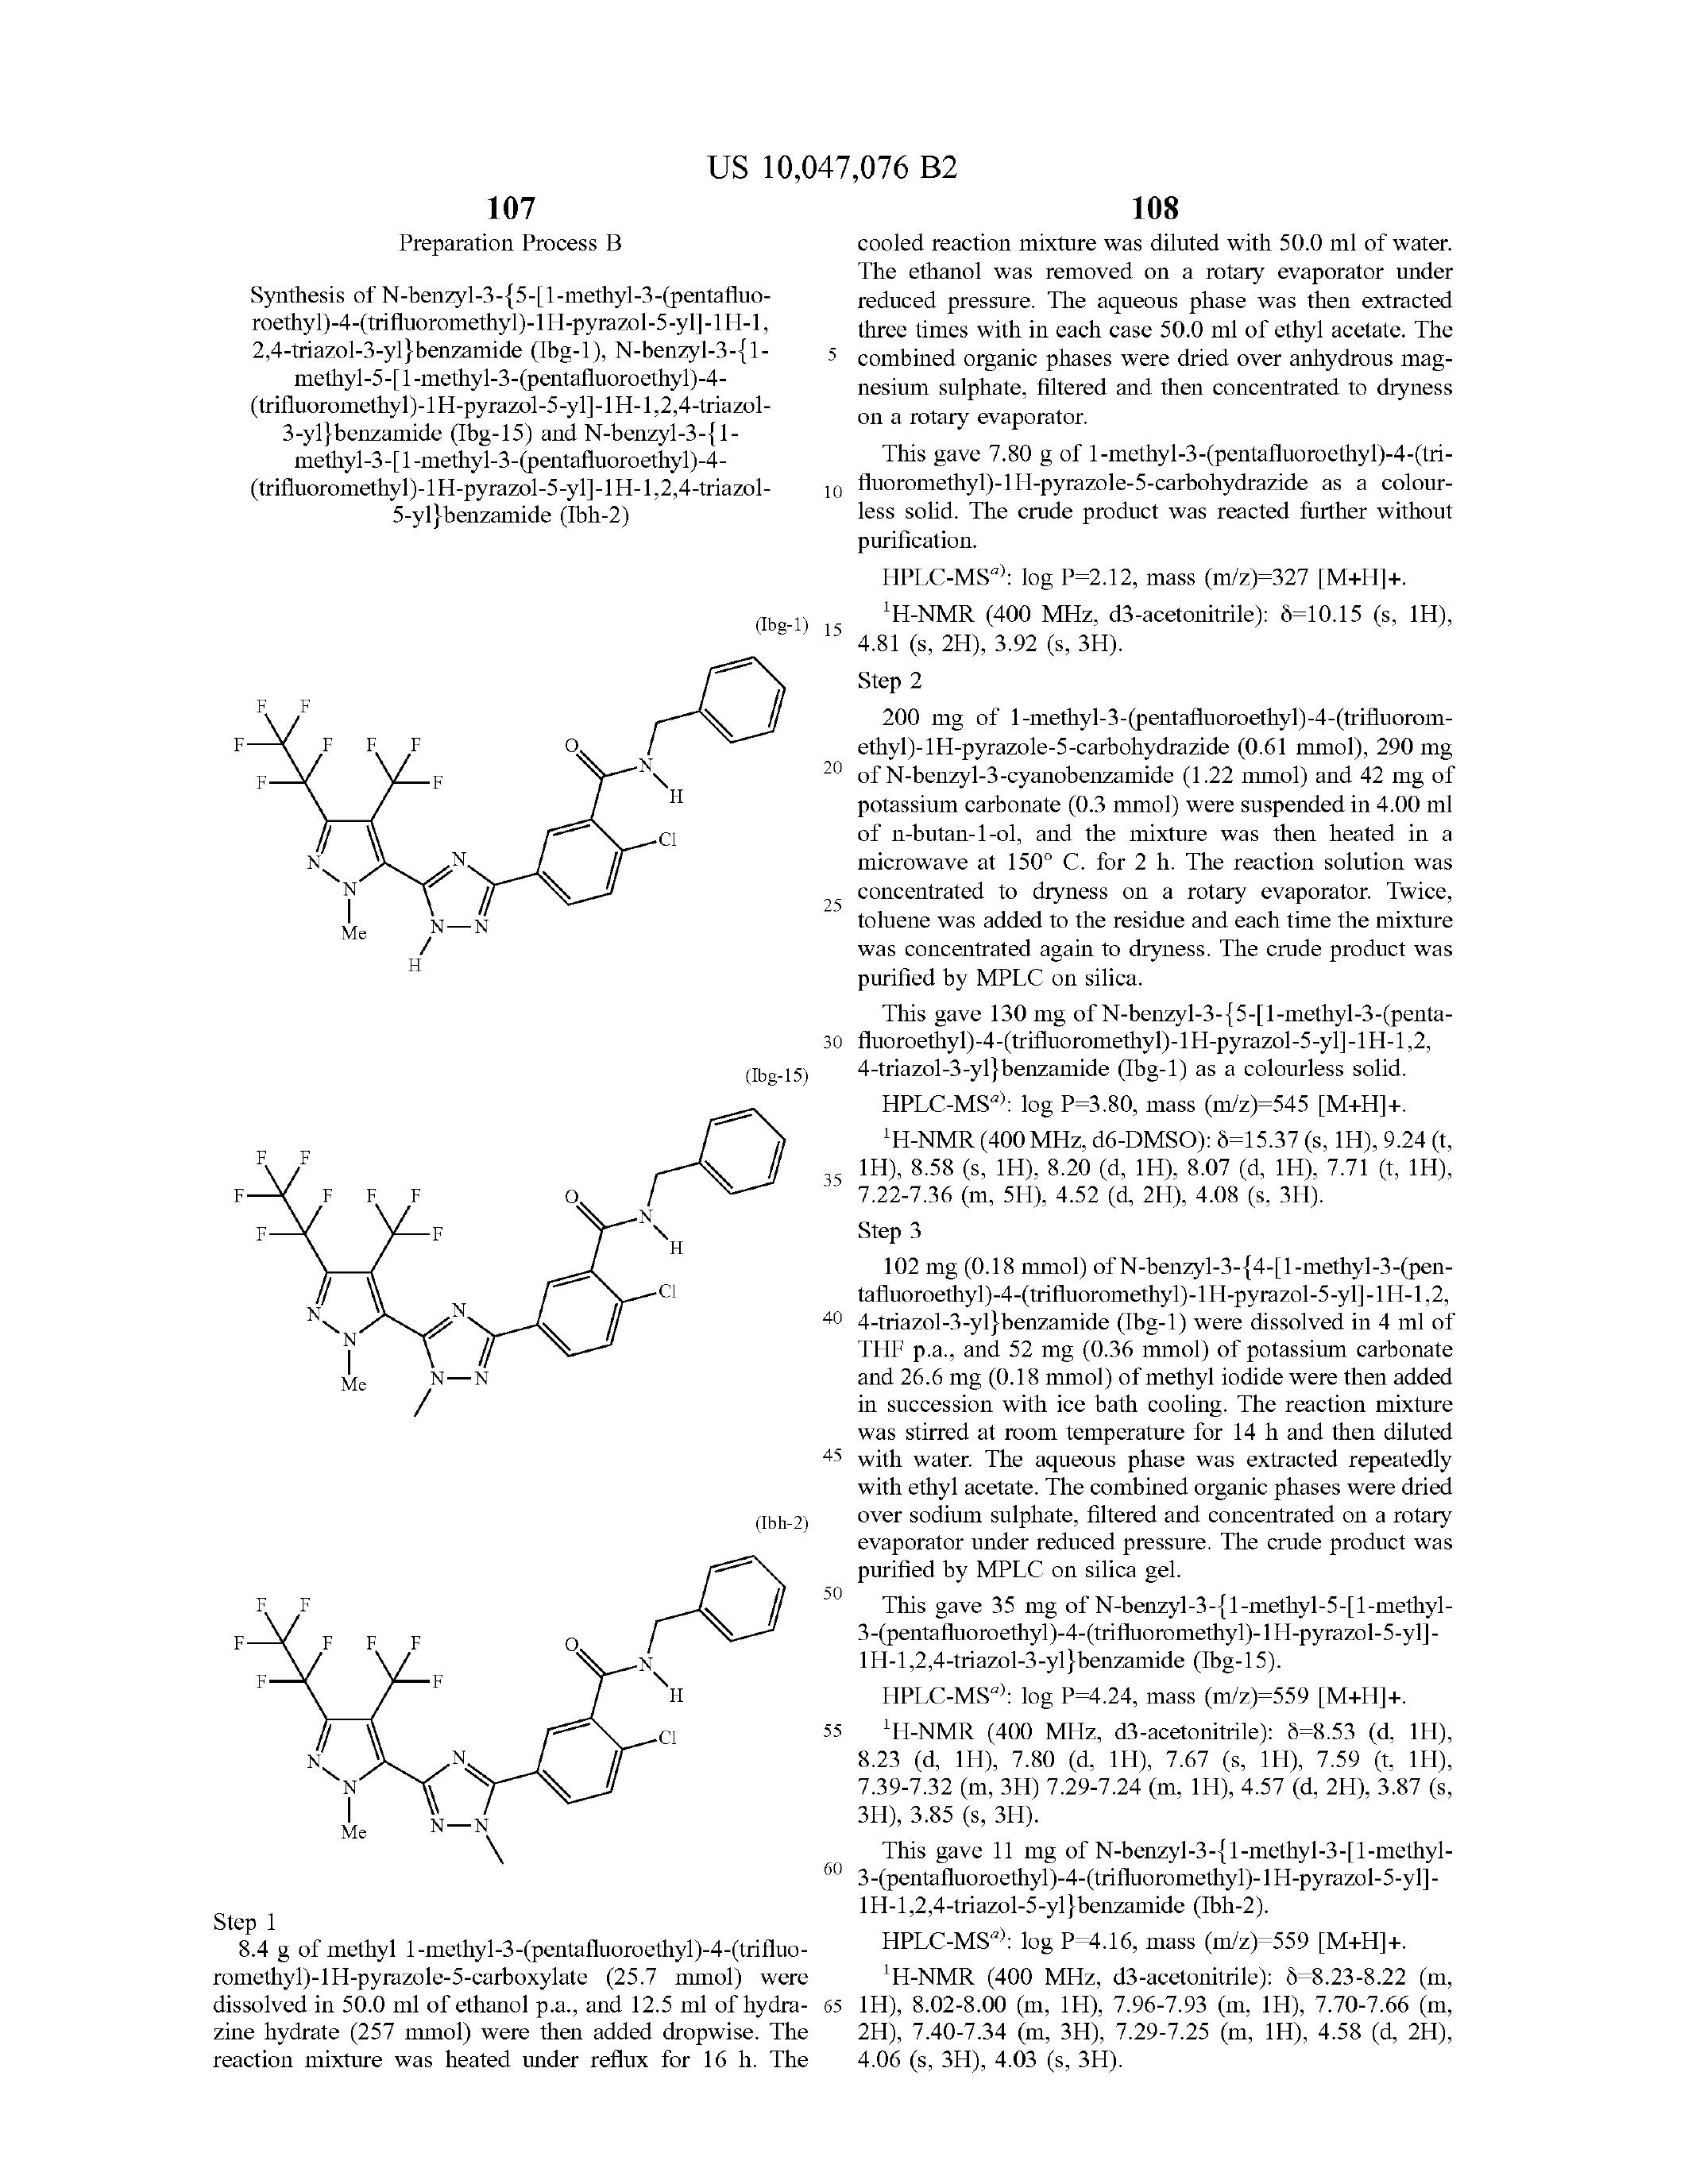relevant-structures: (103, 1010, 839, 1466), (177, 567, 814, 995), (188, 1514, 809, 1911)
